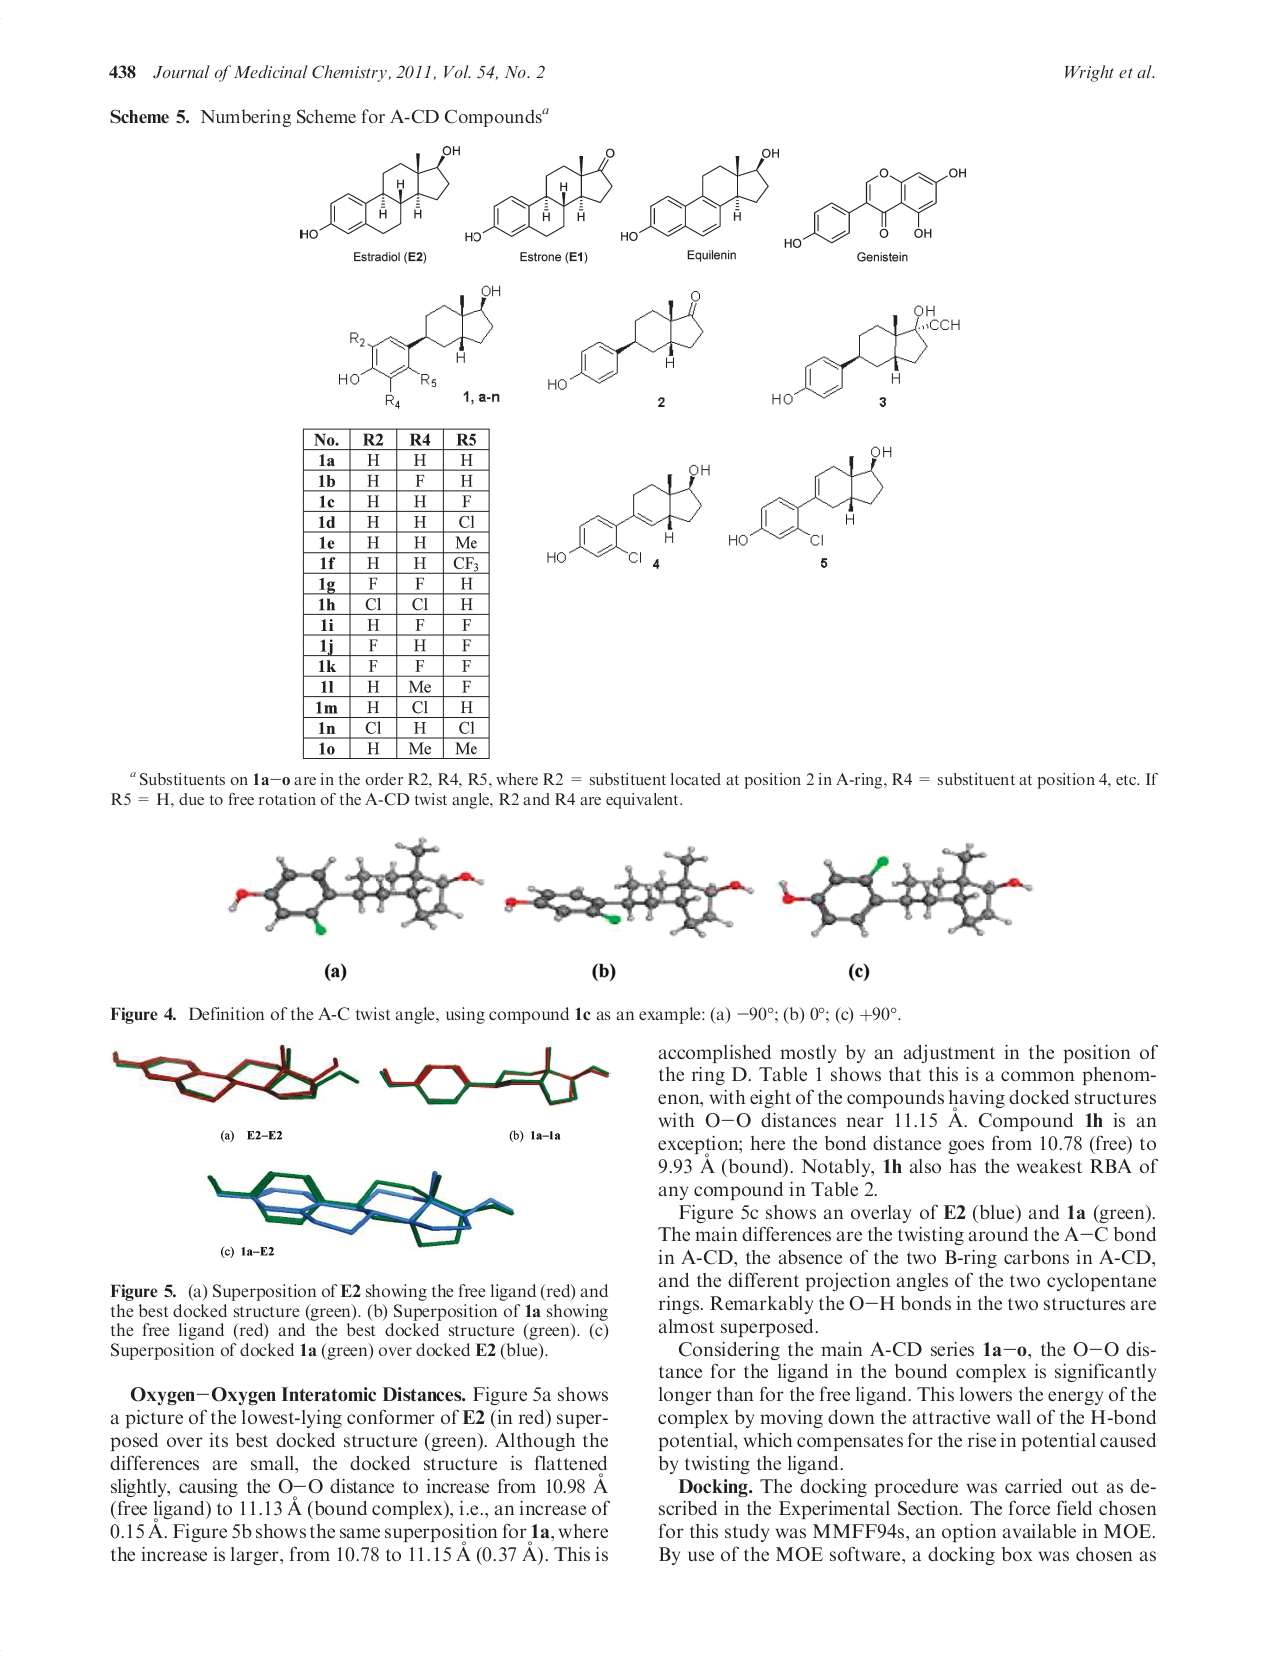exist_molecular: (335, 283, 503, 408), (767, 303, 963, 406), (727, 443, 892, 549), (545, 463, 715, 565), (545, 289, 705, 390), (782, 166, 969, 251), (298, 144, 461, 239), (618, 148, 781, 239), (465, 148, 614, 242)
